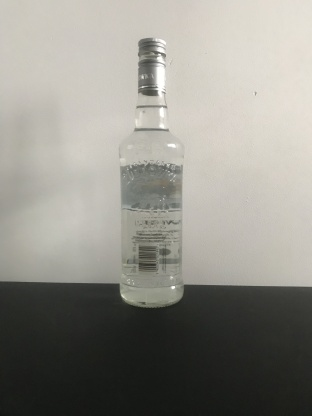nakretka: (136, 35, 167, 96)
